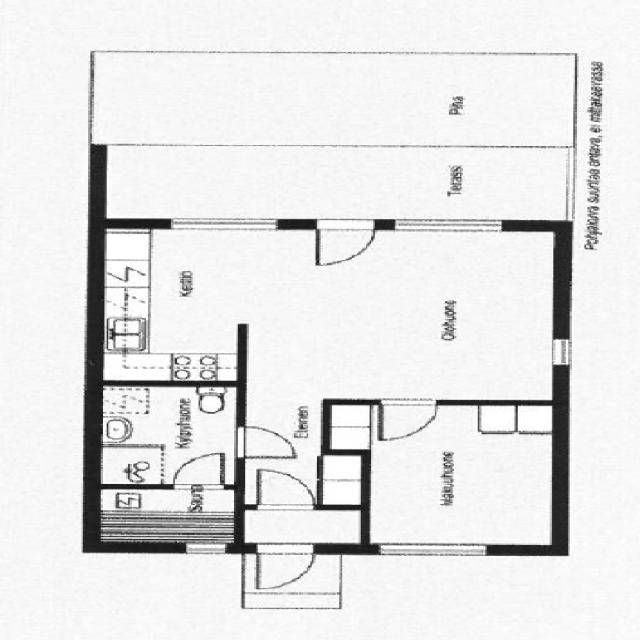door: (309, 220, 383, 269), (244, 543, 318, 589), (376, 398, 437, 446), (250, 467, 314, 510), (232, 425, 304, 461), (174, 451, 230, 489)
window: (369, 541, 498, 559), (168, 214, 289, 233), (388, 214, 502, 234), (534, 334, 571, 368), (191, 539, 223, 556)
zone: (233, 218, 562, 396), (374, 405, 550, 546), (99, 224, 241, 388), (104, 385, 238, 487)
